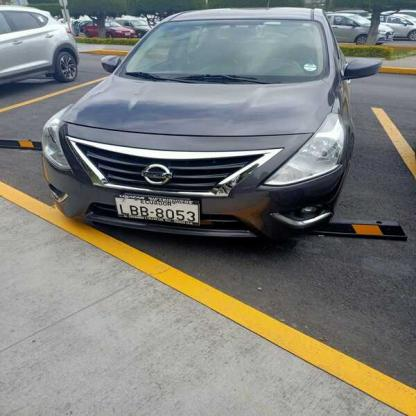Placa: (112, 193, 204, 226)
